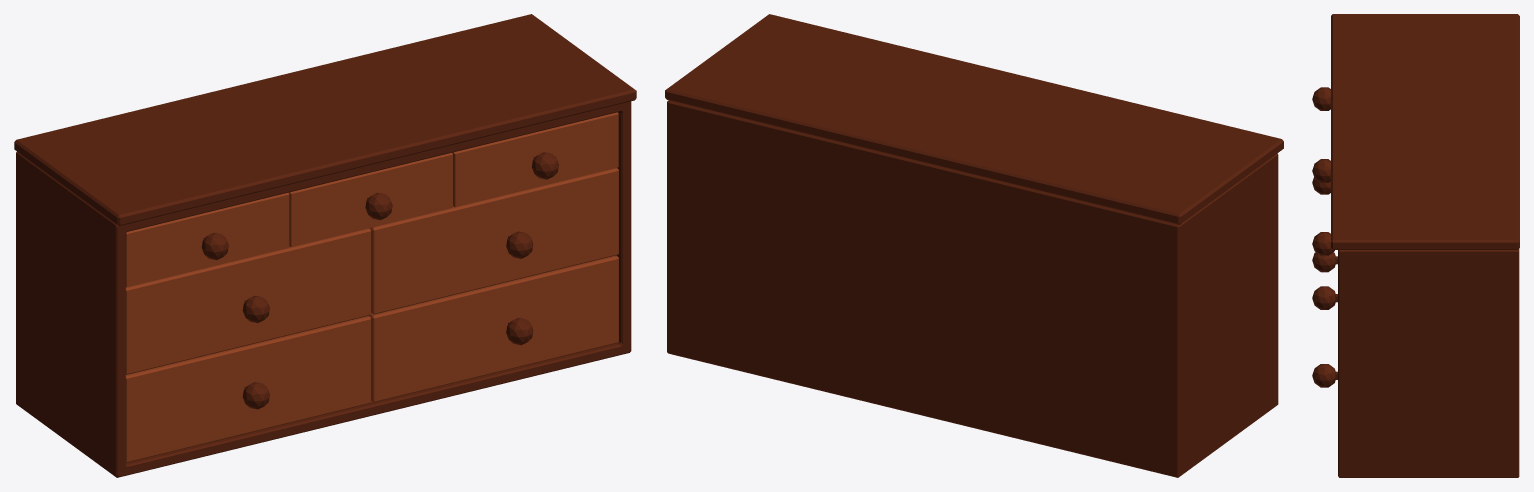
The model's file is hh_chest_drawers.glb.
The picture shows the model from 3 angles, left to right: view 1: azimuth 30°, elevation 25°; view 2: azimuth 150°, elevation 25°; view 3: azimuth 270°, elevation 25°; orthographic projection. The views are drawn at different scales.
Parts seen in each view (by area): view 1: Drawer_A, Drawer_A007, Drawer_A004, Drawer_A006, Drawer_A005, Drawer_A003, Drawer_A001, Drawer_A002; view 2: Drawer_A; view 3: Drawer_A, Drawer_A007, Drawer_A004, Drawer_A006, Drawer_A003, Drawer_A001, Drawer_A002.
Part boxes in pixels (x1,y1,x2,y2): Drawer_A: (14,14,636,477); Drawer_A007: (369,255,618,402); Drawer_A004: (369,167,618,314); Drawer_A006: (125,316,371,462); Drawer_A005: (125,228,371,374); Drawer_A003: (452,112,618,207); Drawer_A001: (125,192,289,287); Drawer_A002: (288,152,452,247); Drawer_A: (665,14,1283,477); Drawer_A: (1331,14,1519,477); Drawer_A007: (1312,364,1337,387); Drawer_A004: (1312,286,1337,309); Drawer_A006: (1312,252,1337,272); Drawer_A003: (1312,232,1334,255); Drawer_A001: (1312,87,1330,110); Drawer_A002: (1312,159,1330,182).
Bounding box in the file's own units: 1.55 × 0.7559 × 0.5961.
